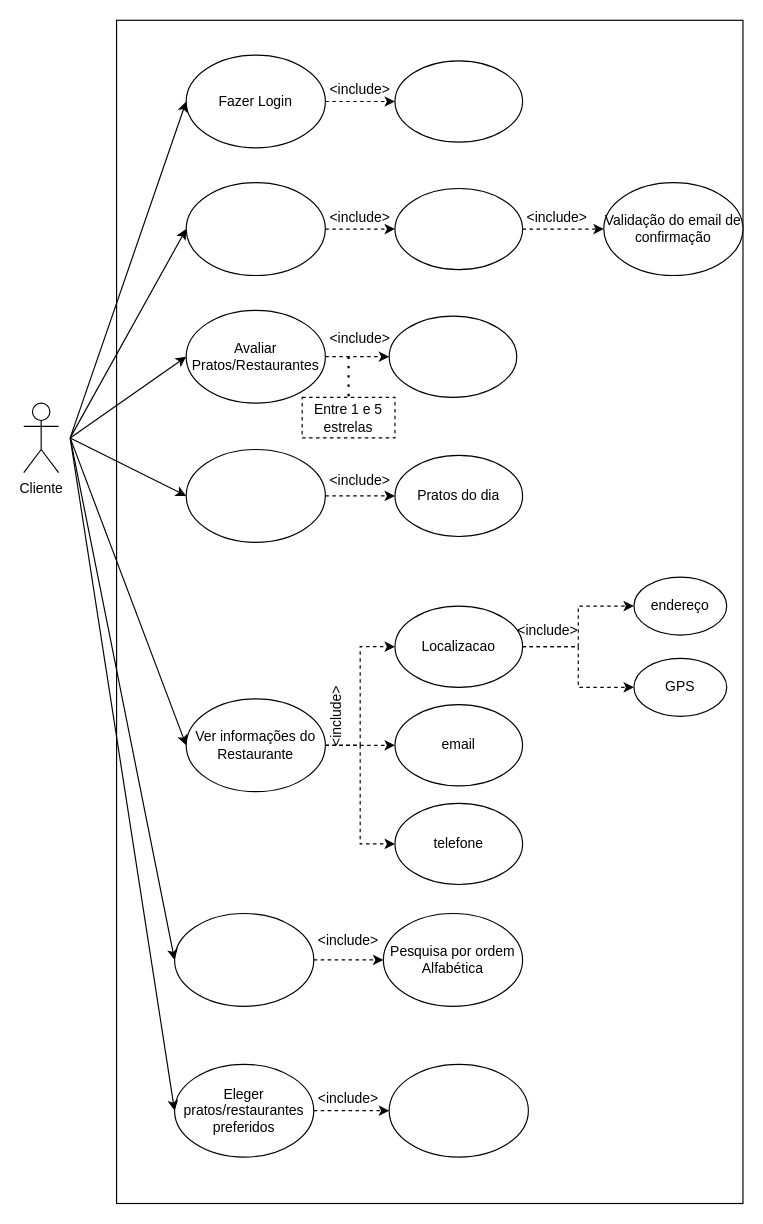
Some shapes in this 763 by 1224 pixel diagram are drawn without their labels. Each missing label, with the centre of its shape:
Atualizar média das avaliações: the point at 452,356
Fazer o Registo: the point at 255,229
Pesquisar pratos/restaurantes: the point at 243,959
Receber notificações: the point at 458,1110
Validar login: the point at 458,101
Validar Registo: the point at 458,228
Ver secção dos pratos de um restaurante: the point at 255,495
